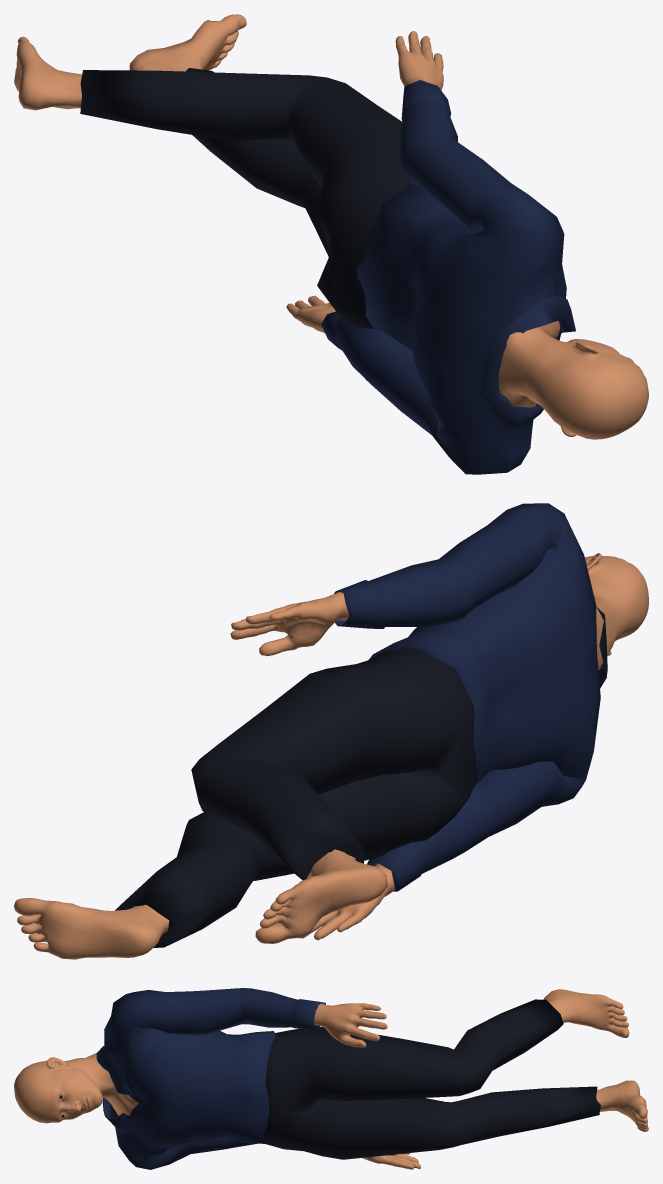
Rendered from walk.obj.
The picture shows the model from 3 angles, top to bottom: view 1: azimuth 30°, elevation 25°; view 2: azimuth 150°, elevation 25°; view 3: azimuth 270°, elevation 25°; orthographic projection. The views are drawn at different scales.
Size of the model in its own units: 0.5866 by 0.5521 by 1.7.
